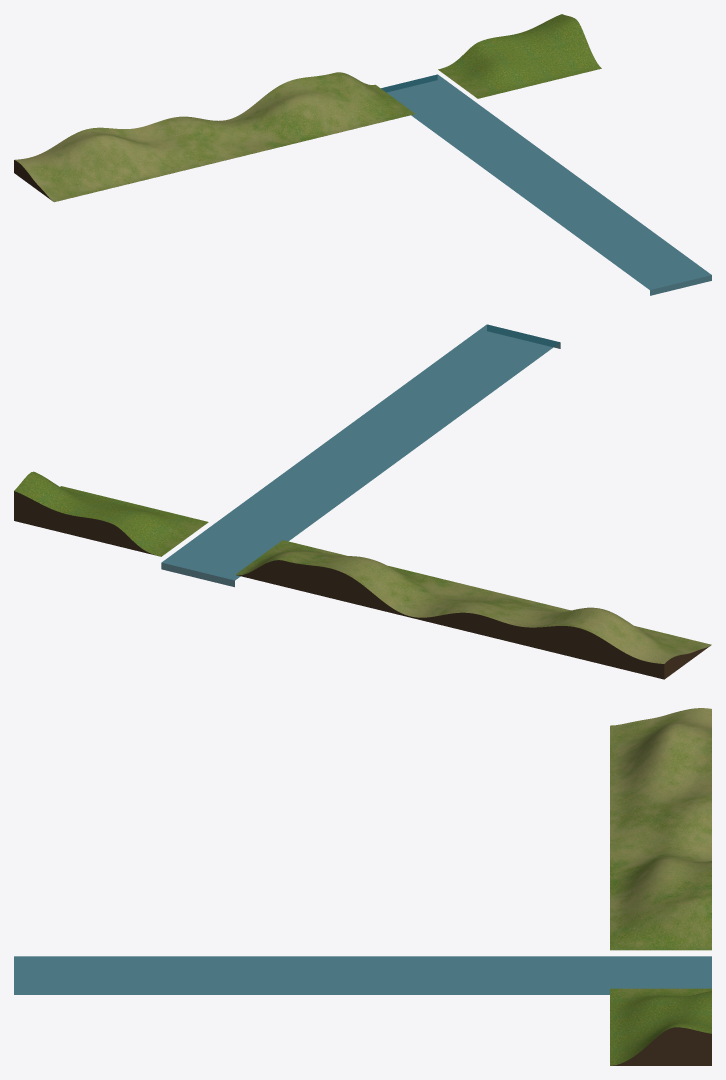
The model's file is 06_Moldeado_Agua.glb.
The picture shows the model from 3 angles, top to bottom: view 1: azimuth 30°, elevation 25°; view 2: azimuth 150°, elevation 25°; view 3: azimuth 270°, elevation 25°; orthographic projection. The views are drawn at different scales.
Visible parts, largest first — view 1: Colinas_Oeste, Agua_Rio, Colinas_Este; view 2: Agua_Rio, Colinas_Oeste, Colinas_Este; view 3: Agua_Rio, Colinas_Oeste, Colinas_Este.
Part boxes in pixels (x1,y1,x2,y2): Colinas_Oeste: (14, 72, 414, 202); Agua_Rio: (381, 74, 711, 295); Colinas_Este: (438, 14, 601, 98); Agua_Rio: (161, 324, 560, 587); Colinas_Oeste: (235, 540, 711, 679); Colinas_Este: (14, 471, 208, 556); Agua_Rio: (14, 956, 711, 994); Colinas_Oeste: (610, 708, 711, 950); Colinas_Este: (610, 988, 711, 1065).
Bounding box in the file's own units: 600 × 42.87 × 520.
3 materials, 2 textured.
